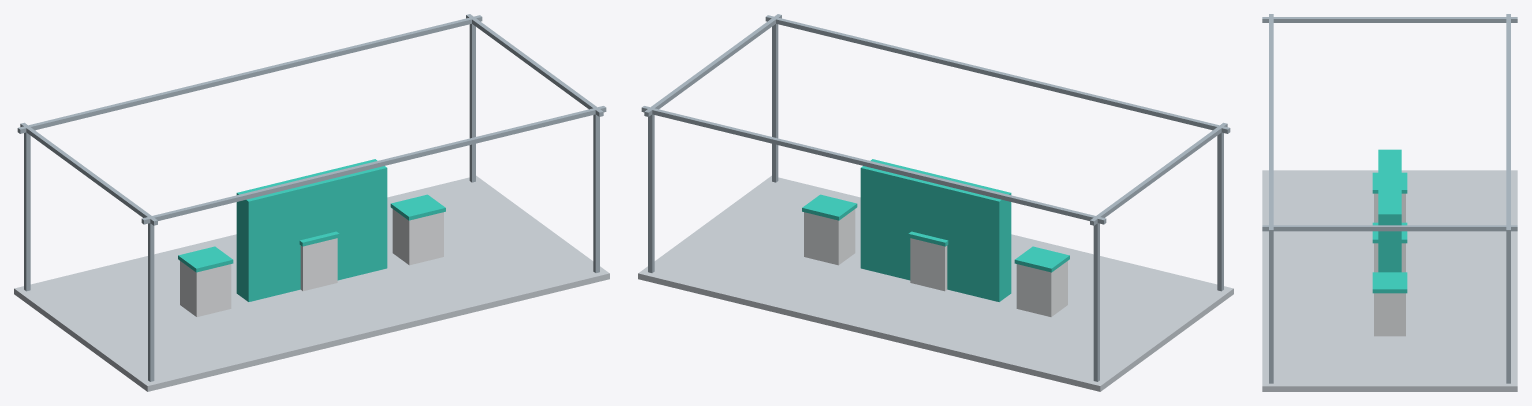
3 renders of one model, left to right at view 1: azimuth 30°, elevation 25°; view 2: azimuth 150°, elevation 25°; view 3: azimuth 270°, elevation 25°, orthographic. The views are drawn at different scales.
Visible parts, largest first — view 1: Exhibition Booth Concept; view 2: Exhibition Booth Concept; view 3: Exhibition Booth Concept.
Boxes of the visible parts, left/top/right/bottom form: Exhibition Booth Concept: left=14, top=14, right=609, bottom=391; Exhibition Booth Concept: left=638, top=14, right=1233, bottom=391; Exhibition Booth Concept: left=1262, top=14, right=1517, bottom=391.
Size of the model in its own units: 10 by 3.49 by 5.
